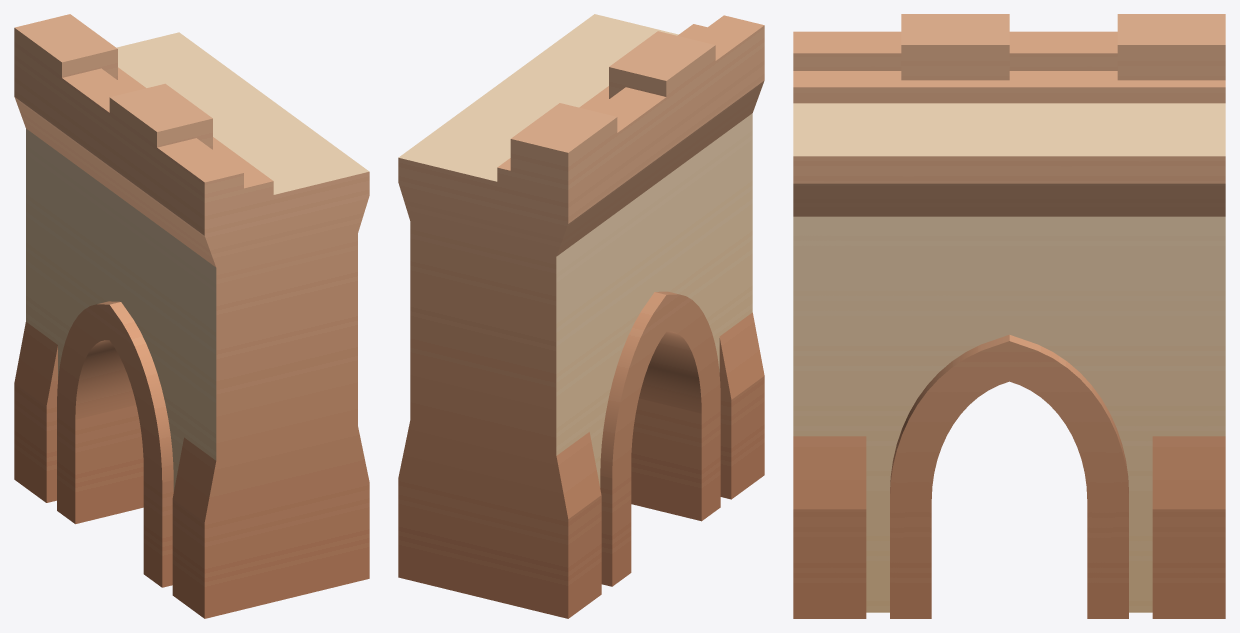
File: wall-doorway.glb
3 views of the same model, side by side, from view 1: azimuth 30°, elevation 25°; view 2: azimuth 150°, elevation 25°; view 3: azimuth 270°, elevation 25° (orthographic). The views are drawn at different scales.
Parts seen in each view (by area): view 1: wall-doorway; view 2: wall-doorway; view 3: wall-doorway.
Boxes of the visible parts, x1,y1,x2,y2 form: wall-doorway: [14, 14, 369, 618]; wall-doorway: [398, 14, 764, 618]; wall-doorway: [793, 14, 1225, 618].
Size of the model in its own units: 0.4999 by 1.31 by 1.
Materials: 1 (1 with a texture image).
